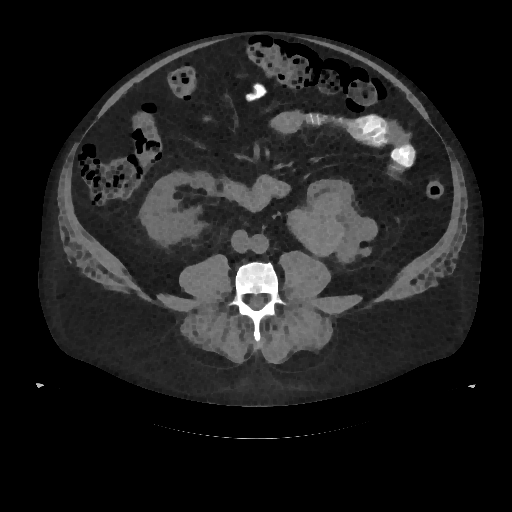Lesion: (283, 206, 344, 259)
